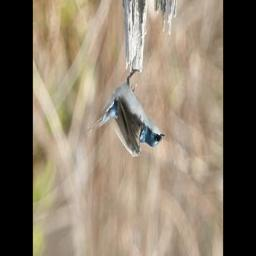Swallow: (87, 68, 165, 160)
